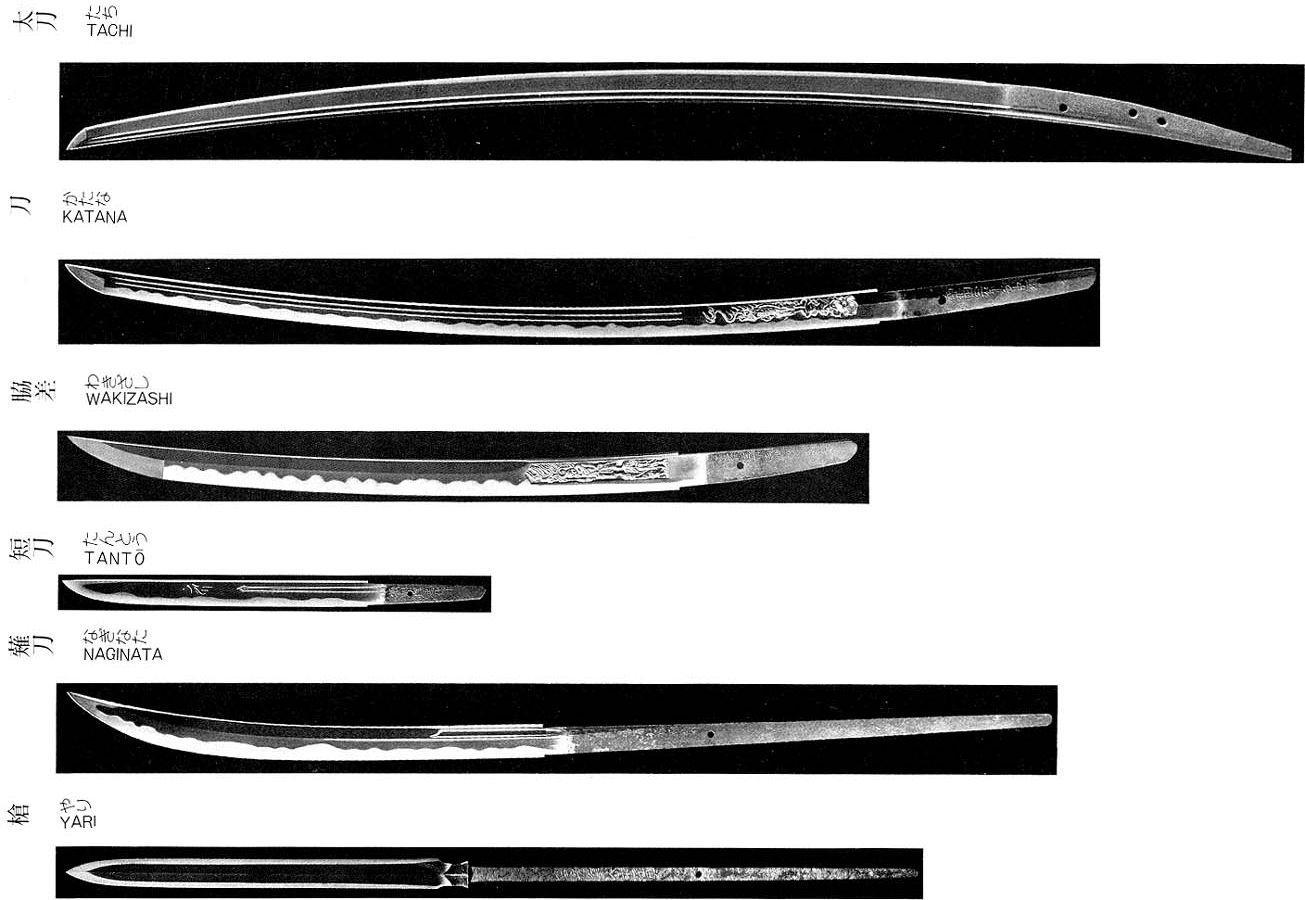espada: (69, 64, 1300, 163), (57, 674, 1050, 775), (59, 259, 1100, 344), (60, 423, 861, 504), (49, 857, 540, 887)
